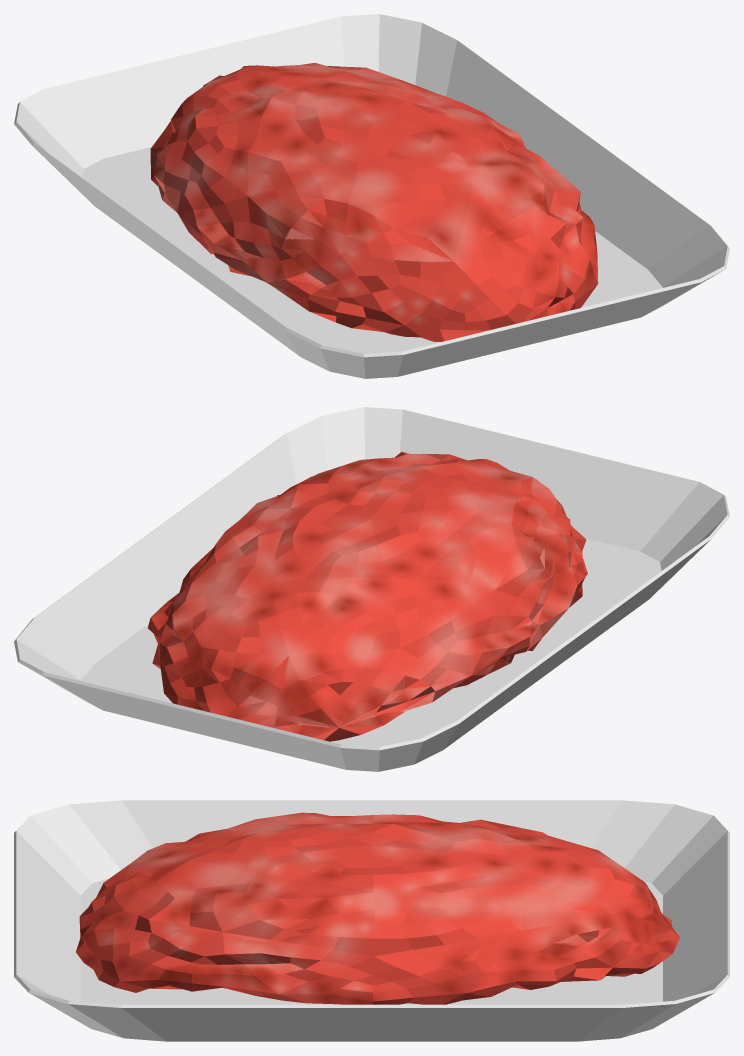
Rendered from Daging Giling.fbx.
3 views of the same model, one above another, from view 1: azimuth 30°, elevation 25°; view 2: azimuth 150°, elevation 25°; view 3: azimuth 270°, elevation 25° (orthographic).
Parts seen in each view (by area): view 1: Plane.007; view 2: Plane.007; view 3: Plane.007.
Part boxes in pixels (x1,y1,x2,y2): Plane.007: (14,14,729,378); Plane.007: (14,407,729,771); Plane.007: (14,800,729,1041).
Size of the model in its own units: 275 by 72.57 by 402.
